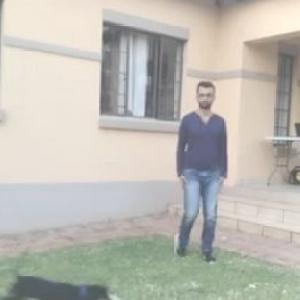follow: (172, 80, 230, 264)
